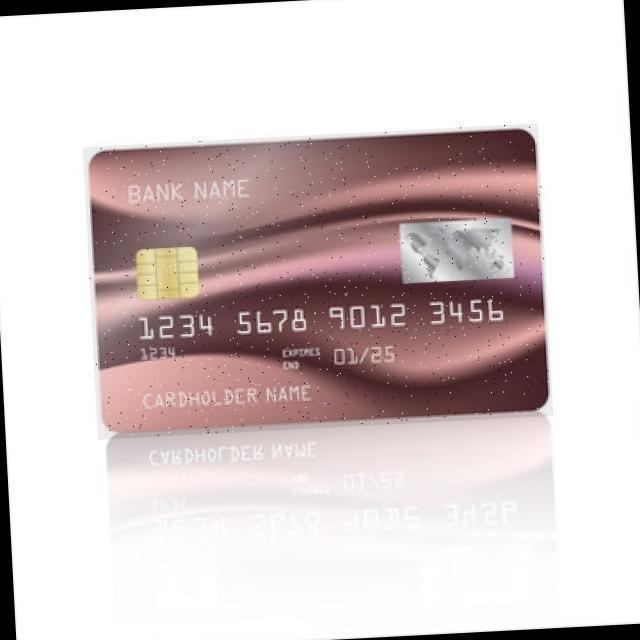payment_card: (84, 125, 548, 435)
